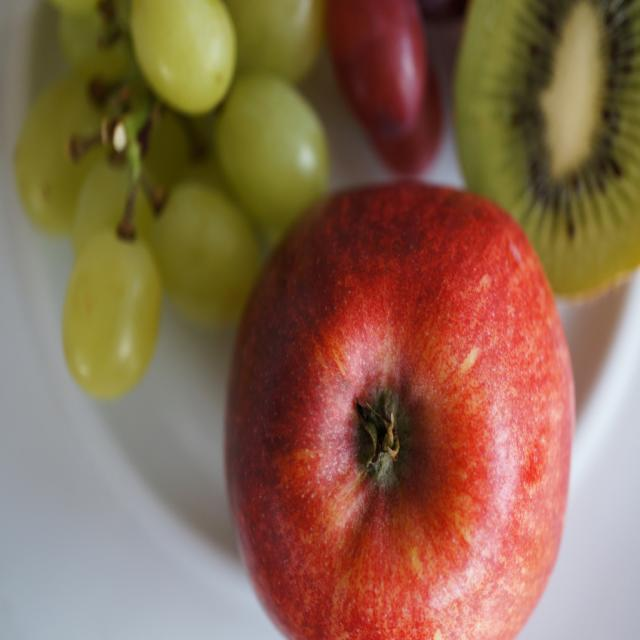Apple: (222, 177, 576, 638)
